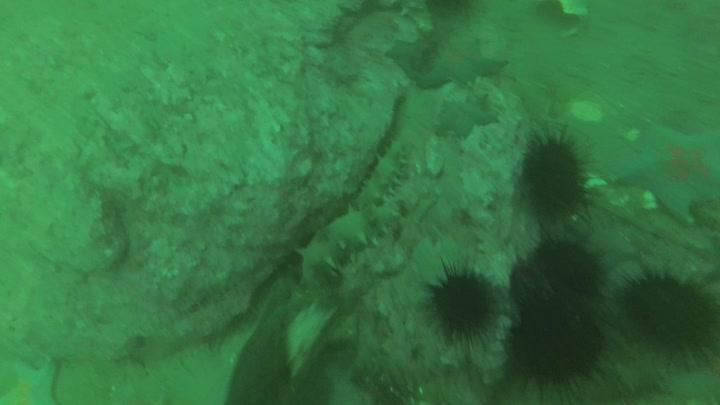urchin: (500, 302, 621, 403), (501, 234, 618, 326), (624, 265, 720, 369), (514, 124, 593, 220), (423, 257, 498, 349)
